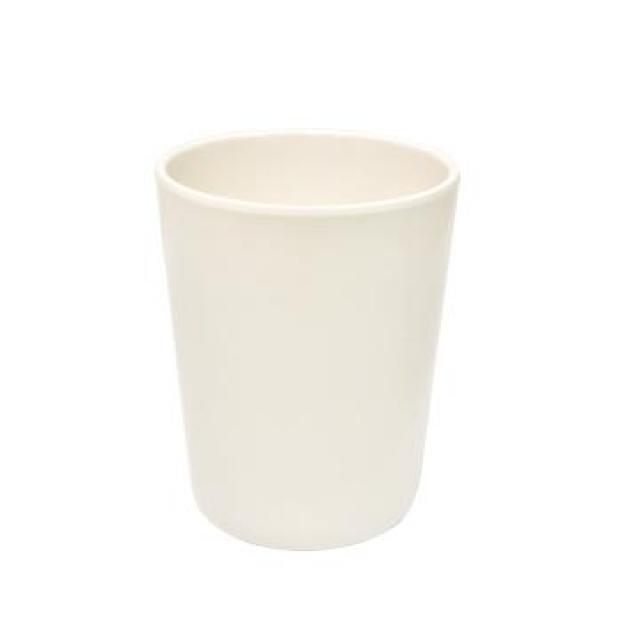Plastic: (159, 136, 461, 552)
